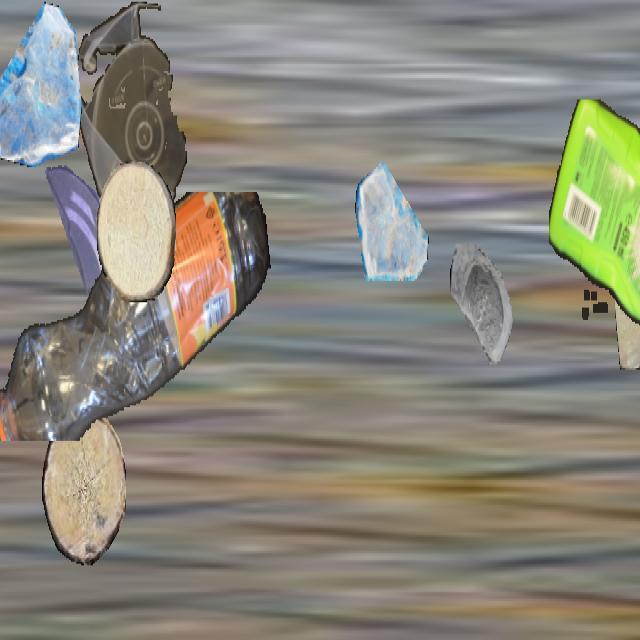glass: (0, 2, 82, 165), (41, 158, 125, 308), (449, 244, 525, 378), (355, 156, 429, 288)
plastic: (0, 192, 273, 441), (76, 2, 188, 236), (549, 100, 640, 334)
wood: (42, 412, 126, 566), (97, 162, 175, 300), (615, 238, 640, 370)
